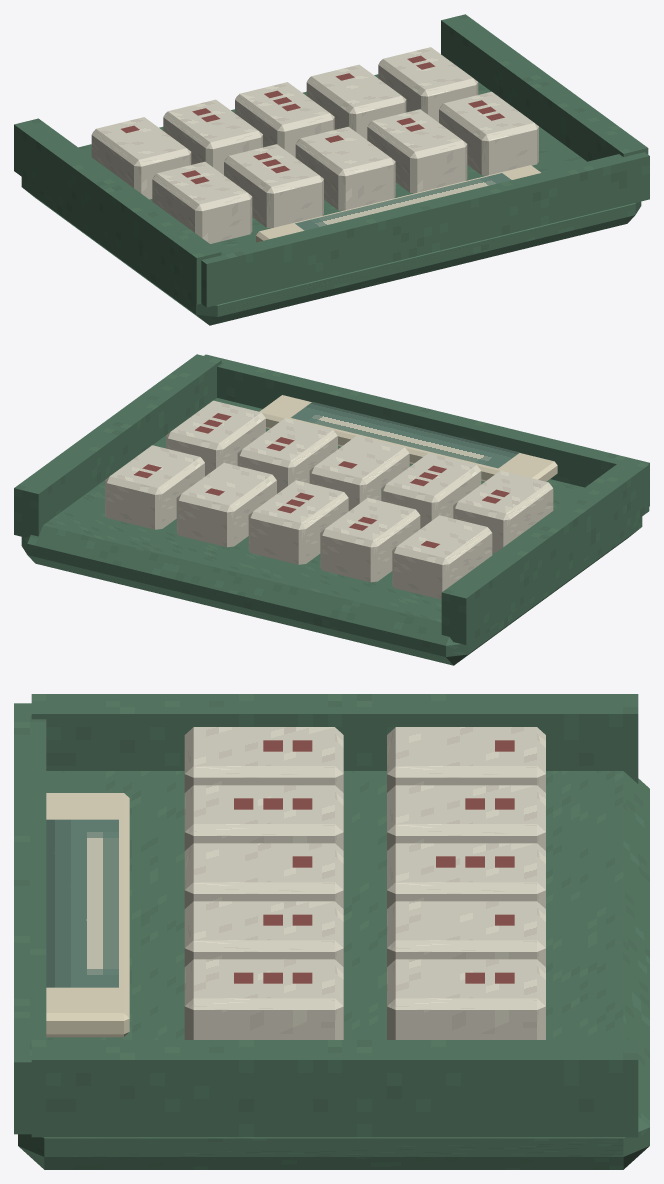
The model's file is mahjong.glb.
3 renders of one model, top to bottom at view 1: azimuth 30°, elevation 25°; view 2: azimuth 150°, elevation 25°; view 3: azimuth 270°, elevation 25°, orthographic. The views are drawn at different scales.
Parts seen in each view (by area): view 1: block_engraved mahjong tile (×10), block_box rear lip, block_box side (×2), block_tile storage box, block_rule booklet cover, block_folded rule booklet; view 2: block_engraved mahjong tile (×10), block_tile storage box, block_box side (×2), block_box rear lip, block_rule booklet cover, block_folded rule booklet; view 3: block_engraved mahjong tile (×10), block_box side (×2), block_tile storage box, block_box rear lip, block_rule booklet cover, block_folded rule booklet.
Part boxes in pixels (<box>): block_engraved mahjong tile (×10): <box>91,47,538,243</box>; block_box rear lip: <box>201,152,649,307</box>; block_box side (×2): <box>14,14,648,304</box>; block_tile storage box: <box>21,74,641,325</box>; block_rule booklet cover: <box>295,173,511,230</box>; block_folded rule booklet: <box>256,165,540,242</box>; block_engraved mahjong tile (×10): <box>105,400,553,599</box>; block_tile storage box: <box>21,398,642,665</box>; block_box side (×2): <box>14,354,649,644</box>; block_box rear lip: <box>204,354,649,506</box>; block_rule booklet cover: <box>291,402,519,468</box>; block_folded rule booklet: <box>259,395,557,481</box>; block_engraved mahjong tile (×10): <box>184,727,545,1039</box>; block_box side (×2): <box>31,694,638,1137</box>; block_tile storage box: <box>18,771,649,1169</box>; block_box rear lip: <box>14,703,46,1134</box>; block_rule booklet cover: <box>46,819,118,987</box>; block_folded rule booklet: <box>46,793,129,1037</box>.
Size of the model in its own units: 0.3068 by 0.0522 by 0.2254.
Materials: 1 (1 with a texture image).
